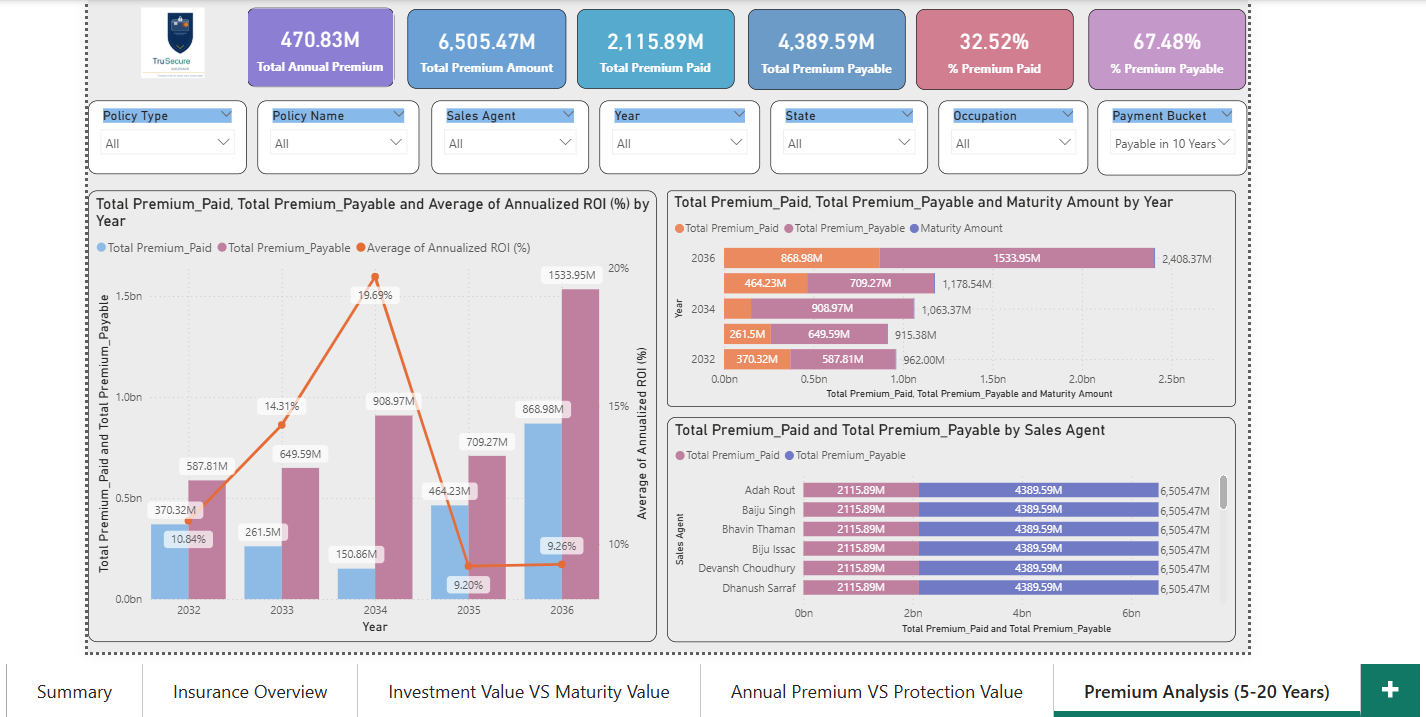

This screenshot's page, from the dashboard's own definition file:
{"tool":"powerbi","page":{"name":"Premium Analysis (5-20 Years)","canvas":[1280,720],"ordinal":4},"visuals":[{"type":"card","fields":{"Values":["Sum(FCT Insurance_Policy_Table.Total Annual Premium)"]},"box":[175.6,8.3,162.3,87.8],"z":0},{"type":"card","fields":{"Values":["Sum(FCT Insurance_Policy_Table.Total Premium Amount)"]},"box":[352.8,9.9,175.6,87.8],"z":1000},{"type":"card","fields":{"Values":["Sum(FCT Insurance_Policy_Table.Total Premium Paid)"]},"box":[540,9.9,173.9,87.8],"z":2000},{"type":"card","fields":{"Values":["Sum(FCT Insurance_Policy_Table.Total Premium Payable)"]},"box":[728.9,9.9,173.9,89.4],"z":3000},{"type":"card","fields":{"Values":["FCT Insurance_Policy_Table.% Premium Paid"]},"box":[914.4,9.9,173.9,89.4],"z":4000},{"type":"image","box":[0,8.3,187.2,77.9],"z":5000},{"type":"slicer","fields":{"Values":["DM Policy_Type.Policy Type"]},"box":[0,111,175.6,81.2],"z":6000},{"type":"slicer","fields":{"Values":["DM Policy_Protection_Plan.Policy Name"]},"box":[187.2,111,178.9,81.2],"z":7000},{"type":"slicer","fields":{"Values":["DM Insurance_Agent_Table.Sales Agent"]},"box":[379.3,111,173.9,81.2],"z":8000},{"type":"slicer","fields":{"Values":["FCT Insurance_Policy_Table.Start Date.Variation.Date Hierarchy.Year"]},"box":[564.9,111,177.2,81.2],"z":9000},{"type":"slicer","fields":{"Values":["DM Customer_Detail_Table.State"]},"box":[753.7,111,173.9,81.2],"z":10000},{"type":"slicer","fields":{"Values":["DM Customer_Detail_Table.Occupation"]},"box":[939.2,111,165.6,81.2],"z":11000},{"type":"card","fields":{"Values":["FCT Insurance_Policy_Table.% Premium Payable"]},"box":[1104.9,9.9,173.9,89.4],"z":12000},{"type":"lineClusteredColumnComboChart","fields":{"Category":["FCT Insurance_Policy_Table.Tenure Date.Variation.Date Hierarchy.Year","FCT Insurance_Policy_Table.Tenure Date.Variation.Date Hierarchy.Quarter","FCT Insurance_Policy_Table.Tenure Date.Variation.Date Hierarchy.Month","FCT Insurance_Policy_Table.Tenure Date.Variation.Date Hierarchy.Day"],"Y":["FCT Insurance_Policy_Table.Total Premium_Paid","FCT Insurance_Policy_Table.Total Premium_Payable"],"Y2":["Avg(FCT Insurance_Policy_Table.Annualized ROI (%))"]},"box":[0,210.4,627.8,498.6],"z":13000},{"type":"slicer","fields":{"Values":["FCT Insurance_Policy_Table.Payment Bucket"]},"box":[1114.8,111,165.6,82.8],"z":14000},{"type":"barChart","fields":{"Category":["FCT Insurance_Policy_Table.Tenure Date.Variation.Date Hierarchy.Year","FCT Insurance_Policy_Table.Tenure Date.Variation.Date Hierarchy.Quarter","FCT Insurance_Policy_Table.Tenure Date.Variation.Date Hierarchy.Month","FCT Insurance_Policy_Table.Tenure Date.Variation.Date Hierarchy.Day"],"Y":["FCT Insurance_Policy_Table.Total Premium_Paid","FCT Insurance_Policy_Table.Total Premium_Payable","Avg(FCT Insurance_Policy_Table.Maturity Amount)"]},"box":[639.4,210.4,627.8,238.5],"z":16001},{"type":"barChart","fields":{"Category":["DM Insurance_Agent_Table.Sales Agent"],"Y":["FCT Insurance_Policy_Table.Total Premium_Paid","FCT Insurance_Policy_Table.Total Premium_Payable"]},"box":[639.4,460.5,627.8,248.5],"z":16002}]}

Visuals, with their boxes on the page's 1280x720 design canvas (x1, y1, x2, y2). These are canvas units, not pixel positions in the 1426x717 screenshot, which may show the page scaled, cropped or inside an application window:
card - Sum(FCT Insurance_Policy_Table.Total Annual Premium): 176 8 338 96
card - Sum(FCT Insurance_Policy_Table.Total Premium Amount): 353 10 528 98
card - Sum(FCT Insurance_Policy_Table.Total Premium Paid): 540 10 714 98
card - Sum(FCT Insurance_Policy_Table.Total Premium Payable): 729 10 903 99
card - FCT Insurance_Policy_Table.% Premium Paid: 914 10 1088 99
image: 0 8 187 86
slicer - DM Policy_Type.Policy Type: 0 111 176 192
slicer - DM Policy_Protection_Plan.Policy Name: 187 111 366 192
slicer - DM Insurance_Agent_Table.Sales Agent: 379 111 553 192
slicer - FCT Insurance_Policy_Table.Start Date.Variation.Date Hierarchy.Year: 565 111 742 192
slicer - DM Customer_Detail_Table.State: 754 111 928 192
slicer - DM Customer_Detail_Table.Occupation: 939 111 1105 192
card - FCT Insurance_Policy_Table.% Premium Payable: 1105 10 1279 99
lineClusteredColumnComboChart - FCT Insurance_Policy_Table.Tenure Date.Variation.Date Hierarchy.Year x FCT Insurance_Policy_Table.Tenure Date.Variation.Date Hierarchy.Quarter: 0 210 628 709
slicer - FCT Insurance_Policy_Table.Payment Bucket: 1115 111 1280 194
barChart - FCT Insurance_Policy_Table.Tenure Date.Variation.Date Hierarchy.Year x FCT Insurance_Policy_Table.Tenure Date.Variation.Date Hierarchy.Quarter: 639 210 1267 449
barChart - DM Insurance_Agent_Table.Sales Agent x FCT Insurance_Policy_Table.Total Premium_Paid: 639 460 1267 709
